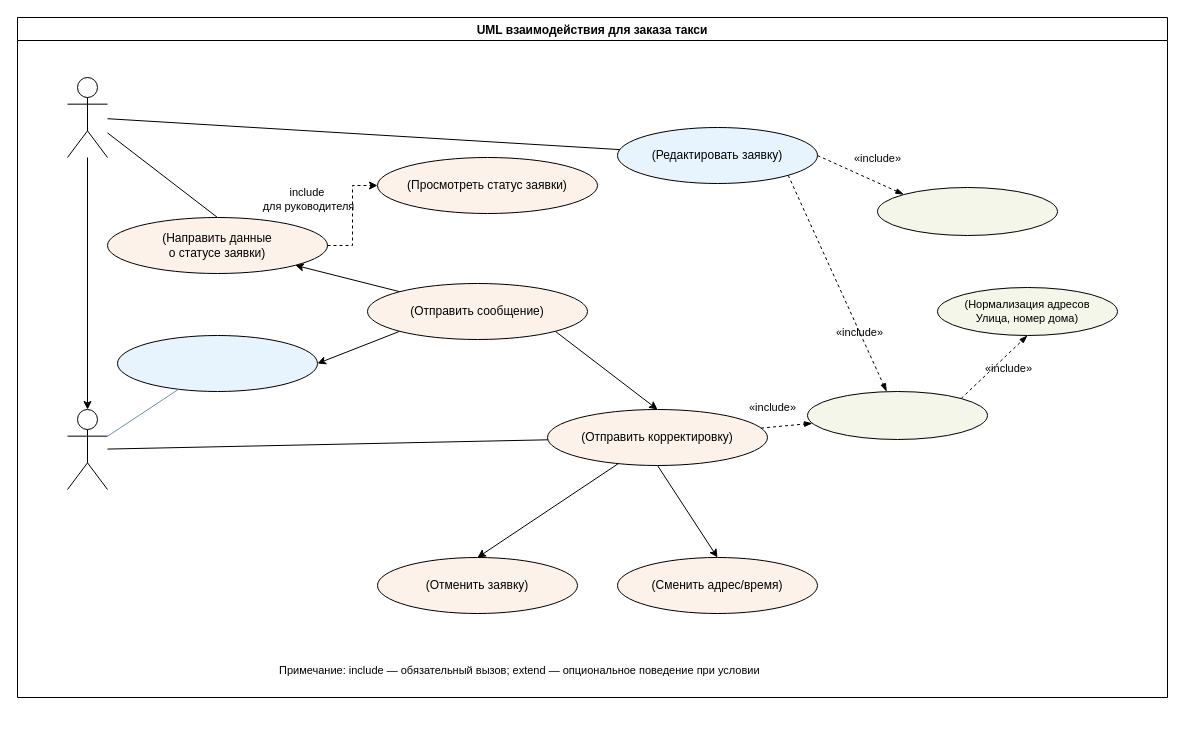
The diagram is 1185 pixels wide and 735 high, and some of its shapes have lost their labels. Each missing label, with the centre of its shape:
"(Валидация данных)" goes at [897,415].
"(Логировать изменение)" goes at [967,211].
"(Получить уведомление о статусе заявки)" goes at [217,363].
"Руководитель" goes at [87,117].
"Сотрудник" goes at [87,449].
